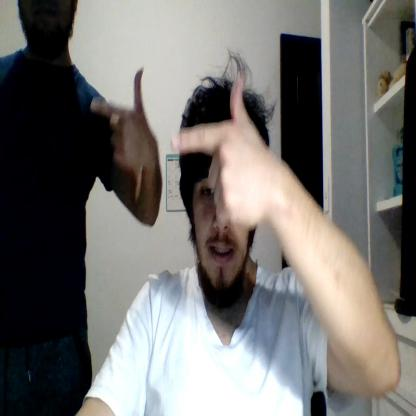G: (171, 74, 265, 226), (90, 66, 150, 170)
